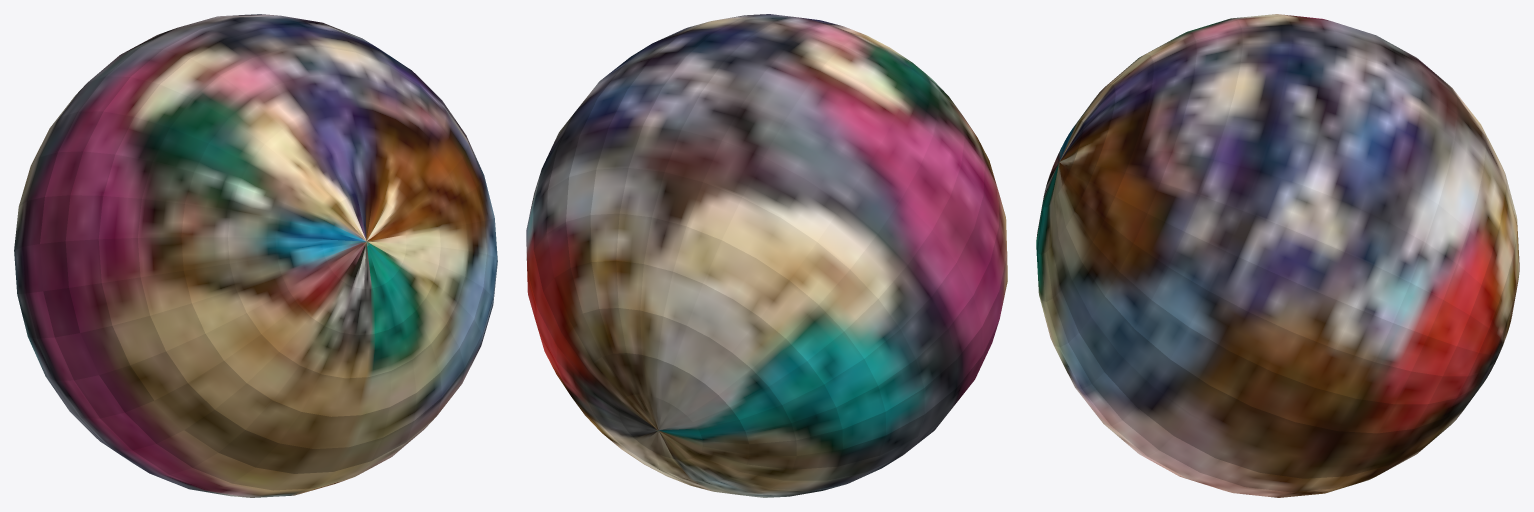
The model's file is clothes3.fbx.
The picture shows the model from 3 angles, left to right: view 1: azimuth 30°, elevation 25°; view 2: azimuth 150°, elevation 25°; view 3: azimuth 270°, elevation 25°; orthographic projection.
Visible parts, largest first — view 1: Sphere; view 2: Sphere; view 3: Sphere.
Part boxes in pixels (x1=…): Sphere: x1=14, y1=14, x2=497, y2=497; Sphere: x1=526, y1=14, x2=1007, y2=497; Sphere: x1=1036, y1=14, x2=1519, y2=497.
Bounding box in the file's own units: 101 × 101 × 101.
1 material, 1 textured.
